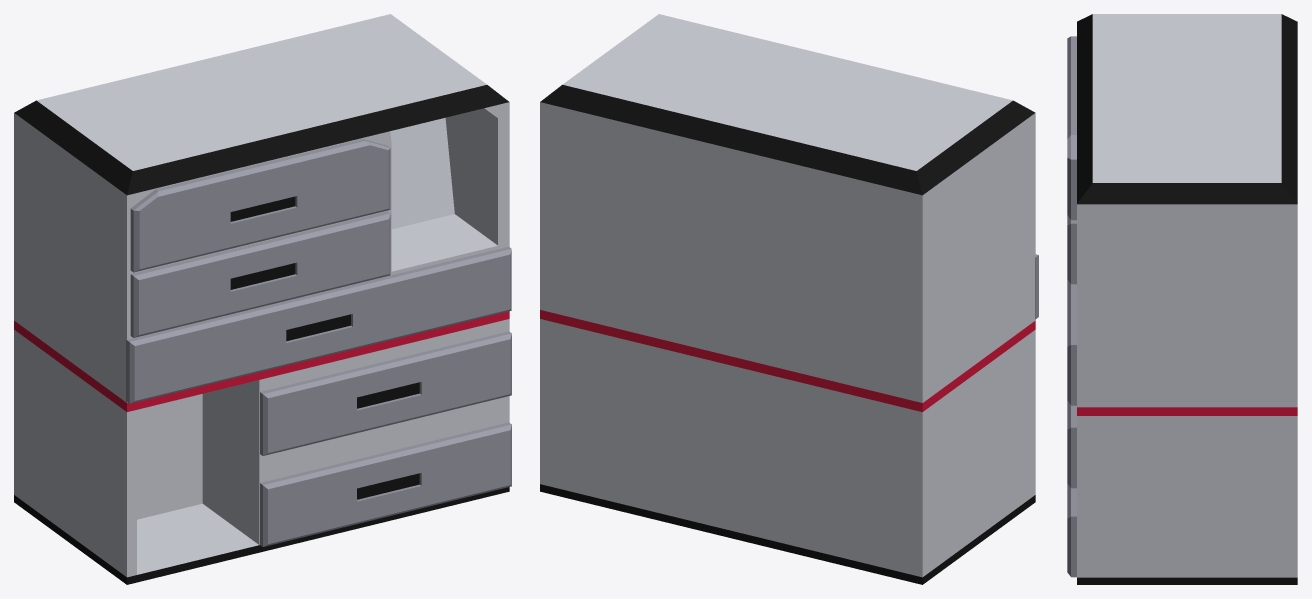
Rendered from Shelf.fbx.
3 views of the same model, side by side, from view 1: azimuth 30°, elevation 25°; view 2: azimuth 150°, elevation 25°; view 3: azimuth 270°, elevation 25° (orthographic). The views are drawn at different scales.
Visible parts, largest first — view 1: Cube; view 2: Cube; view 3: Cube.
Part boxes in pixels (x1,y1,x2,y2): Cube: [14, 14, 511, 584]; Cube: [540, 14, 1038, 584]; Cube: [1067, 14, 1297, 584].
Bounding box in the file's own units: 585 × 591 × 312.
